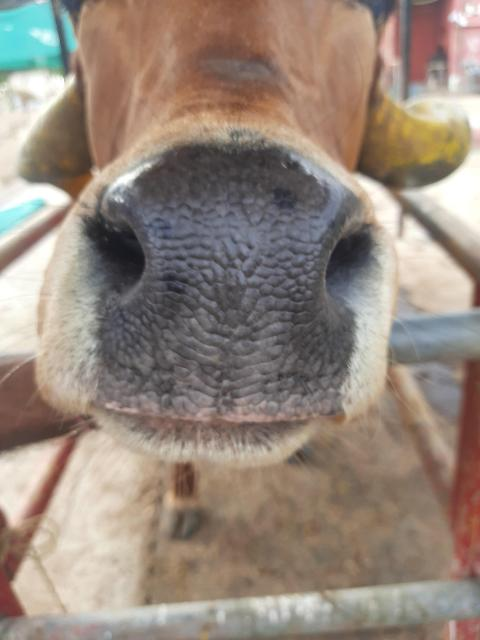Muzzle: (104, 182, 351, 398)
